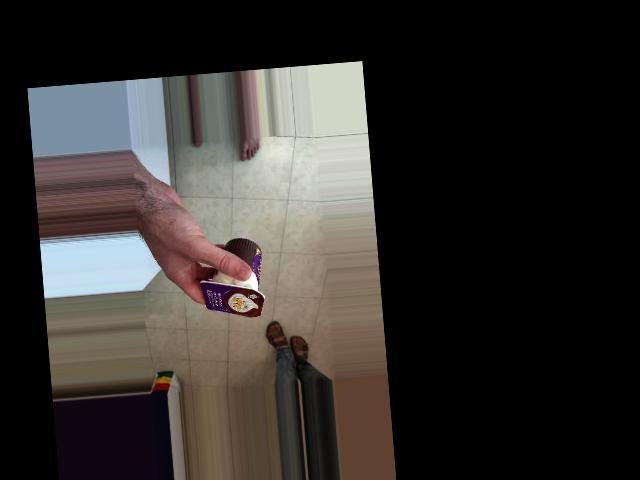milky: (212, 260, 307, 327)
